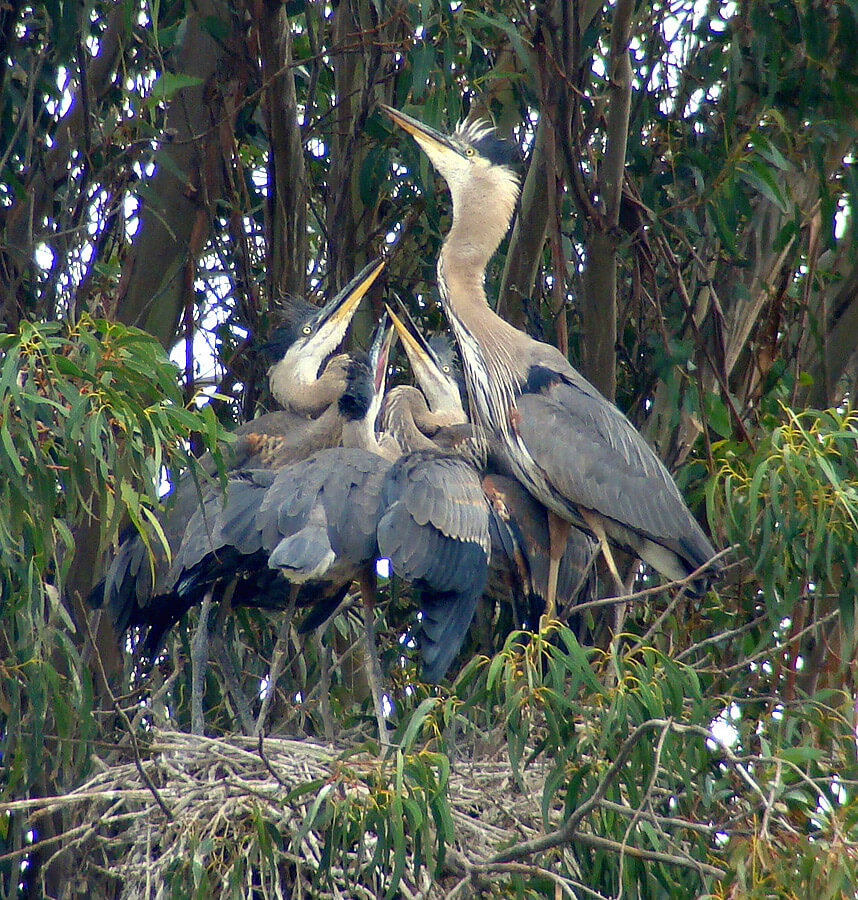heron: (369, 87, 595, 343)
